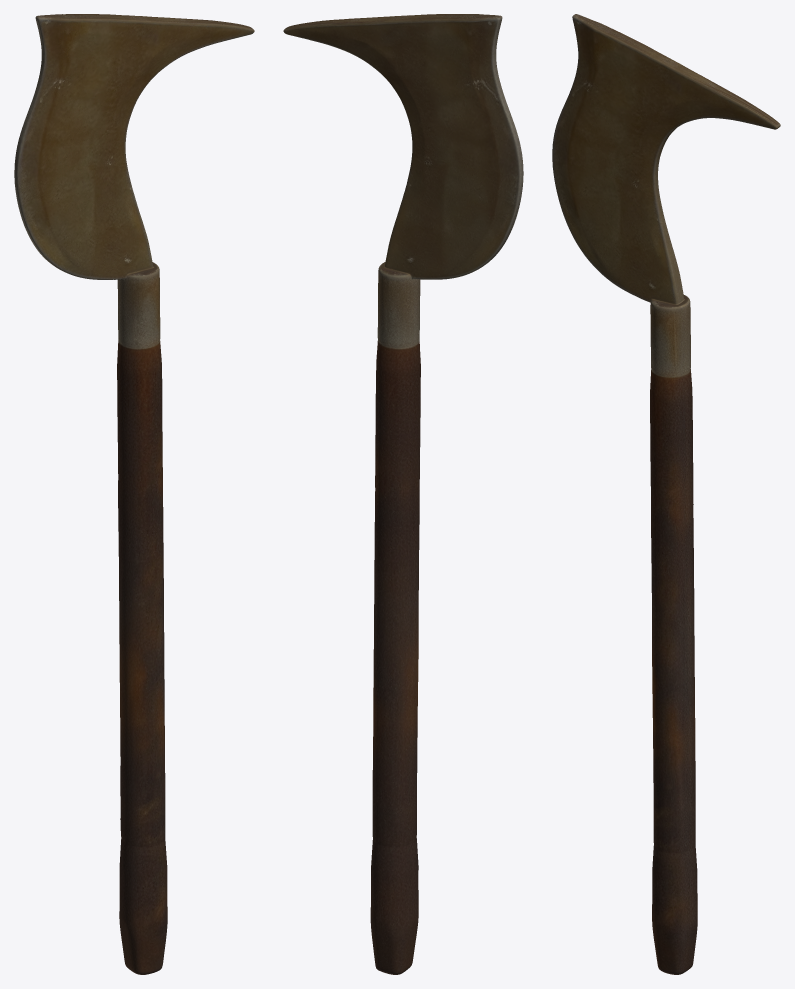
Rendered from apayao.glb.
3 views of the same model, side by side, from view 1: azimuth 30°, elevation 25°; view 2: azimuth 150°, elevation 25°; view 3: azimuth 330°, elevation 25° (orthographic). The views are drawn at different scales.
Bounding box in the file's own units: 0.4822 × 1.9 × 0.0821.
Materials: 1 (1 with a texture image).
